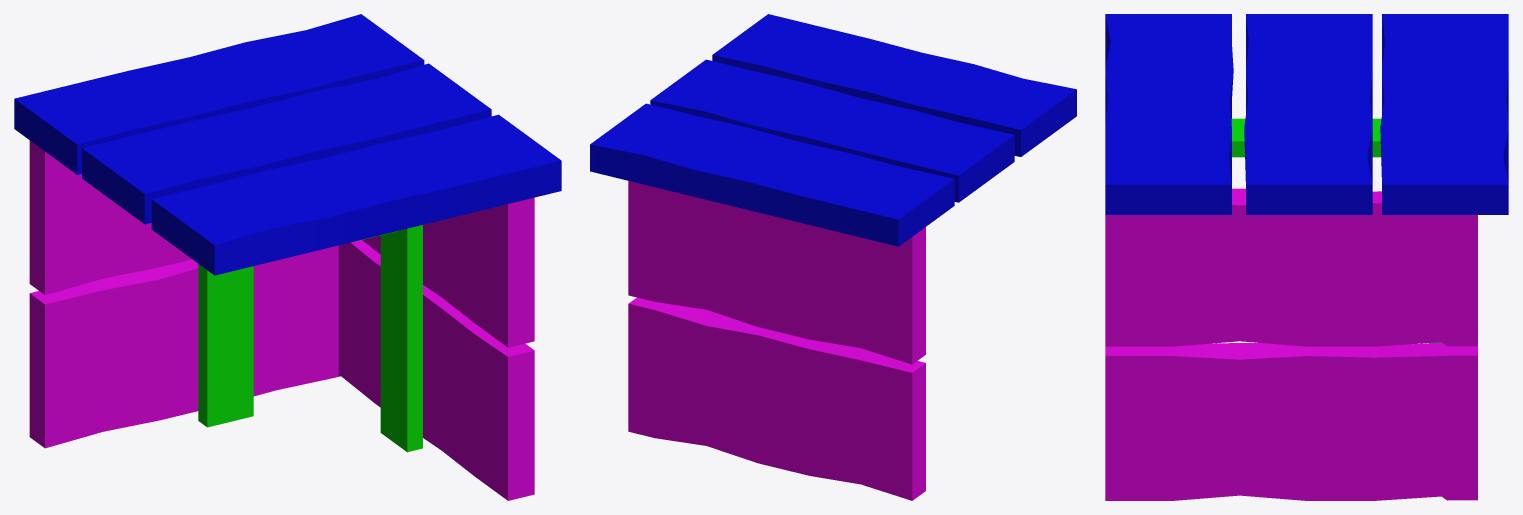
Rendered from KCounterR.fbx.
3 renders of one model, left to right at view 1: azimuth 30°, elevation 25°; view 2: azimuth 150°, elevation 25°; view 3: azimuth 270°, elevation 25°, orthographic. The views are drawn at different scales.
Parts seen in each view (by area): view 1: CounterR_LP1_group8_pCube107; view 2: CounterR_LP1_group8_pCube107; view 3: CounterR_LP1_group8_pCube107.
Boxes of the visible parts, x1=… form: CounterR_LP1_group8_pCube107: x1=14, y1=14, x2=561, y2=500; CounterR_LP1_group8_pCube107: x1=590, y1=14, x2=1076, y2=500; CounterR_LP1_group8_pCube107: x1=1105, y1=14, x2=1508, y2=500.
Bounding box in the file's own units: 2 × 1.86 × 2.
